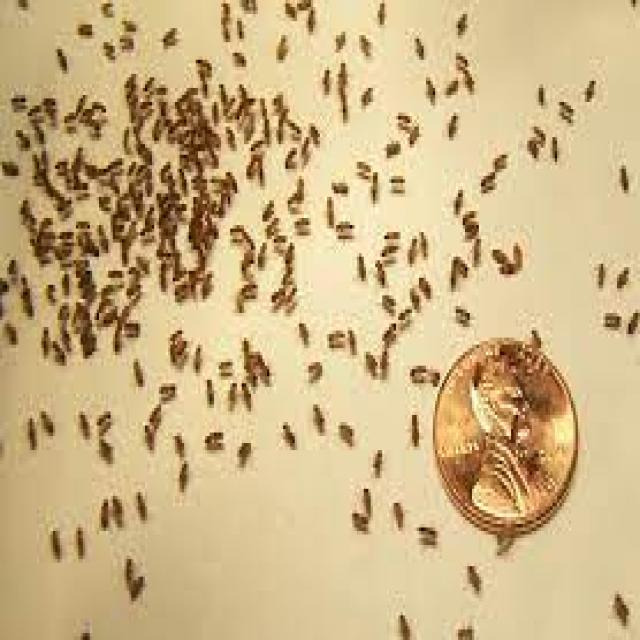fruit fly: (341, 496, 375, 538), (196, 415, 226, 461), (458, 549, 486, 594), (122, 559, 150, 601), (354, 472, 378, 520), (274, 408, 299, 454), (410, 510, 440, 548), (329, 77, 352, 126), (196, 366, 221, 411), (352, 70, 378, 112), (398, 222, 422, 267), (440, 243, 462, 292), (608, 253, 633, 296), (115, 549, 143, 587), (444, 292, 472, 330), (168, 450, 191, 496), (129, 478, 152, 524), (502, 228, 527, 270), (67, 514, 90, 559), (474, 158, 500, 197), (88, 288, 115, 324), (401, 112, 424, 154), (106, 486, 129, 528), (370, 232, 400, 264), (350, 21, 377, 56), (400, 352, 430, 383), (348, 242, 370, 284), (44, 517, 64, 563), (371, 334, 391, 380), (331, 408, 357, 443), (403, 401, 423, 446), (230, 429, 253, 468), (405, 21, 428, 60), (306, 390, 327, 432), (617, 296, 638, 338), (527, 67, 548, 109), (92, 489, 113, 531), (410, 264, 433, 302), (72, 401, 95, 439), (46, 331, 69, 369), (596, 299, 624, 330), (389, 99, 417, 130), (454, 56, 476, 95), (387, 489, 407, 531), (357, 338, 377, 380), (410, 218, 430, 260), (578, 67, 598, 109), (451, 197, 481, 225), (440, 102, 460, 144), (318, 186, 338, 228), (34, 401, 58, 436), (21, 408, 41, 450), (90, 214, 110, 256), (486, 141, 513, 172), (376, 310, 398, 348), (437, 63, 463, 95), (350, 144, 373, 180), (366, 436, 387, 475), (154, 370, 178, 404), (552, 88, 578, 119), (377, 127, 403, 158), (154, 18, 180, 49), (389, 601, 414, 633), (129, 246, 154, 278), (366, 250, 387, 288), (589, 250, 608, 292), (541, 127, 562, 165), (290, 310, 311, 348), (269, 25, 290, 63), (490, 250, 518, 278), (92, 426, 115, 460), (401, 274, 421, 313), (332, 49, 352, 88), (187, 334, 207, 373), (249, 232, 269, 271), (486, 236, 511, 267), (447, 39, 472, 70), (320, 317, 345, 348), (302, 348, 324, 383), (552, 102, 576, 134), (262, 274, 286, 306), (375, 215, 403, 242), (329, 208, 357, 235), (127, 348, 145, 390), (189, 46, 216, 74), (376, 282, 398, 316), (288, 204, 311, 236), (168, 422, 189, 457), (0, 313, 21, 348), (382, 162, 408, 190), (108, 180, 134, 208), (612, 155, 631, 193), (454, 215, 484, 239), (339, 316, 359, 352), (191, 64, 212, 98), (449, 4, 472, 35), (288, 165, 306, 204), (173, 158, 191, 197), (325, 169, 350, 197), (235, 271, 260, 299), (279, 137, 299, 172), (99, 144, 124, 172), (465, 229, 483, 267), (419, 67, 437, 105), (279, 271, 297, 309), (447, 180, 467, 214), (316, 53, 332, 95), (278, 180, 302, 208), (48, 148, 72, 176), (527, 113, 548, 144), (113, 24, 136, 52), (196, 264, 214, 299), (106, 313, 122, 352), (72, 11, 95, 38), (523, 317, 543, 348), (12, 120, 32, 151), (256, 190, 276, 221), (164, 109, 186, 137), (451, 246, 470, 278), (364, 162, 380, 200), (329, 21, 348, 53), (34, 317, 50, 355), (154, 253, 168, 296), (224, 215, 246, 242), (134, 215, 156, 242), (115, 120, 134, 151), (368, 0, 389, 28), (92, 401, 113, 429), (152, 152, 173, 180), (523, 130, 541, 162), (219, 116, 237, 148), (168, 274, 191, 299), (85, 91, 108, 116), (302, 0, 318, 35), (136, 67, 156, 95), (295, 127, 313, 158), (221, 162, 239, 193), (69, 208, 92, 232), (120, 313, 142, 338), (120, 274, 142, 299), (226, 42, 248, 67), (138, 197, 157, 225), (230, 285, 247, 316), (230, 11, 247, 42), (244, 130, 265, 155), (205, 165, 226, 190), (42, 274, 58, 306), (72, 84, 88, 116), (102, 260, 125, 282), (304, 116, 322, 144), (122, 257, 143, 281), (58, 102, 78, 127), (56, 264, 72, 295), (53, 222, 76, 242), (267, 225, 288, 246), (71, 183, 92, 204), (207, 92, 219, 126), (166, 320, 182, 345), (122, 151, 138, 176), (147, 109, 161, 137), (276, 0, 297, 18)
